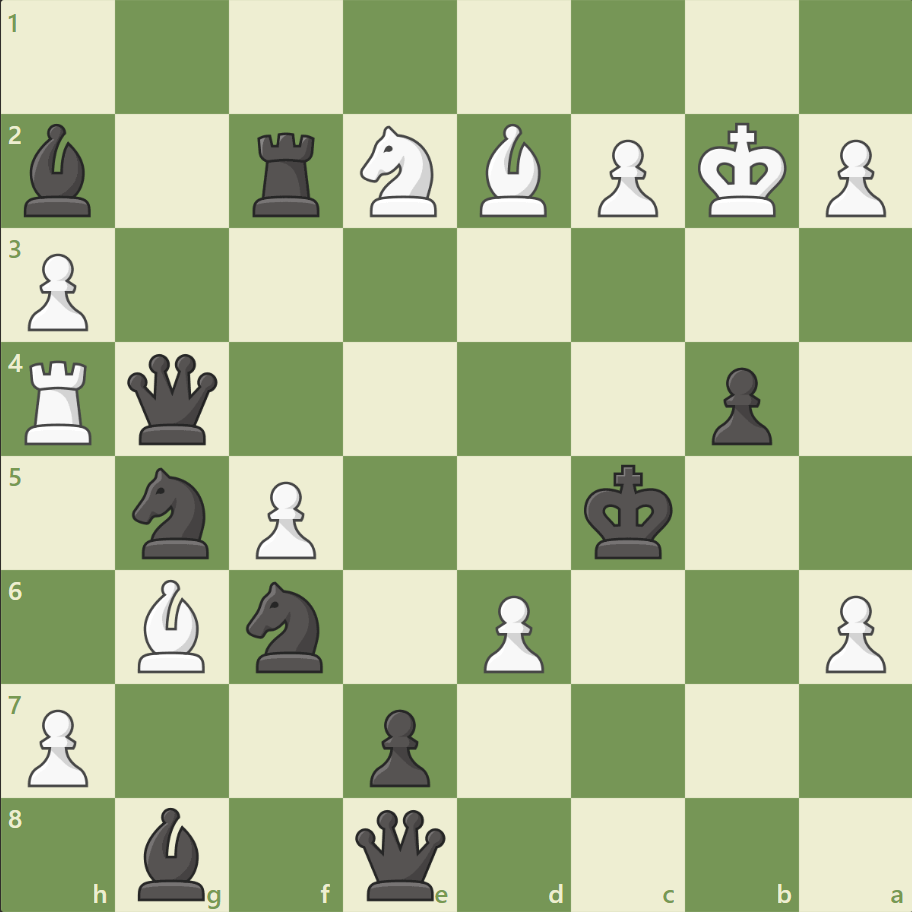B: (131, 574, 215, 676), (471, 120, 555, 222)
K: (692, 117, 792, 225)
N: (351, 121, 449, 223)
P: (20, 700, 95, 791), (474, 586, 549, 677), (247, 473, 322, 564), (20, 246, 95, 337), (815, 586, 889, 677), (815, 132, 889, 223), (588, 132, 662, 223)
R: (19, 352, 102, 449)
b: (131, 801, 215, 904), (17, 120, 101, 222)
k: (579, 458, 679, 566)
n: (124, 461, 222, 564), (238, 575, 335, 677)
p: (701, 359, 776, 450), (361, 700, 435, 791)
q: (124, 349, 223, 449), (351, 804, 450, 903)
r: (246, 125, 329, 222)
